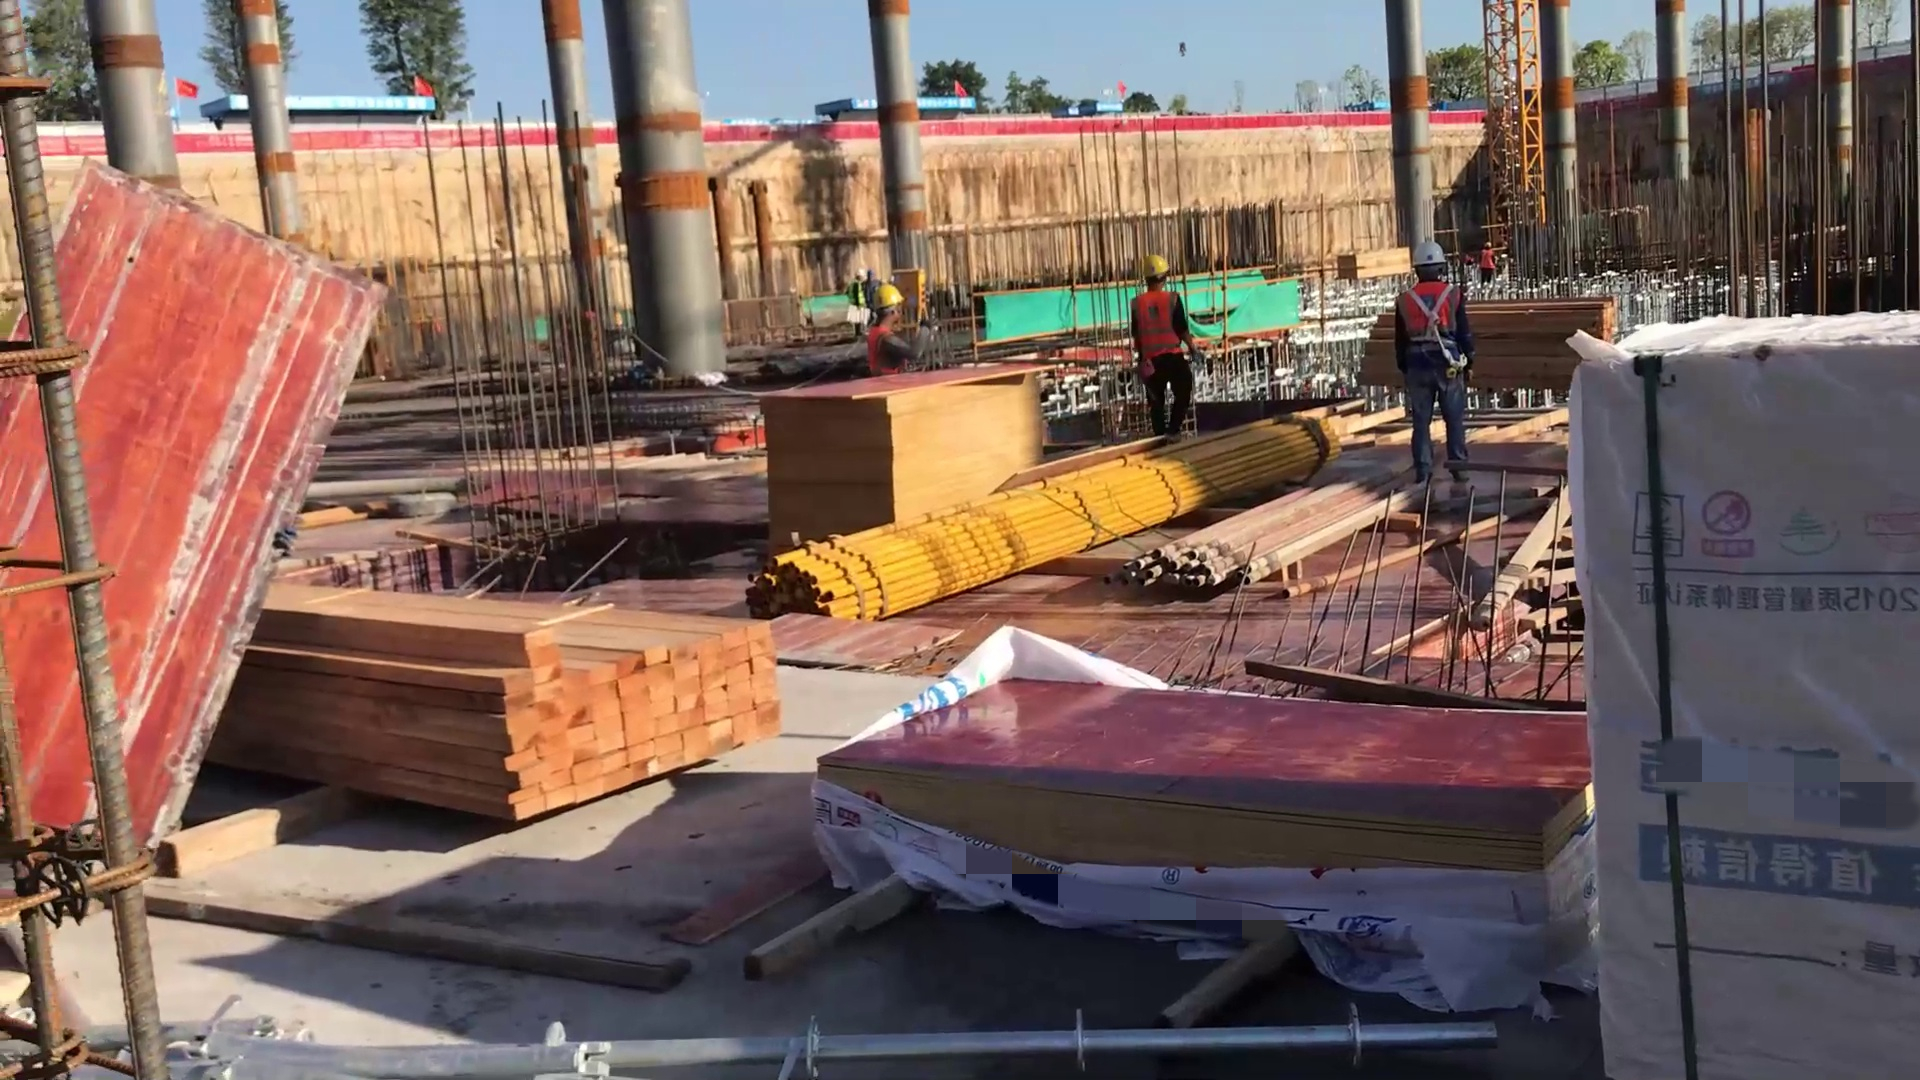board: (815, 669, 1605, 890), (750, 355, 1057, 562)
ebox: (888, 264, 929, 325)
helmet: (1407, 234, 1450, 275), (868, 277, 908, 316), (1140, 252, 1176, 286)
person: (1379, 229, 1492, 497), (1117, 250, 1214, 451), (853, 279, 942, 393)
vest: (1394, 277, 1467, 376), (1133, 287, 1193, 373), (868, 318, 911, 379)
wood: (196, 578, 786, 831), (1467, 288, 1624, 421)
